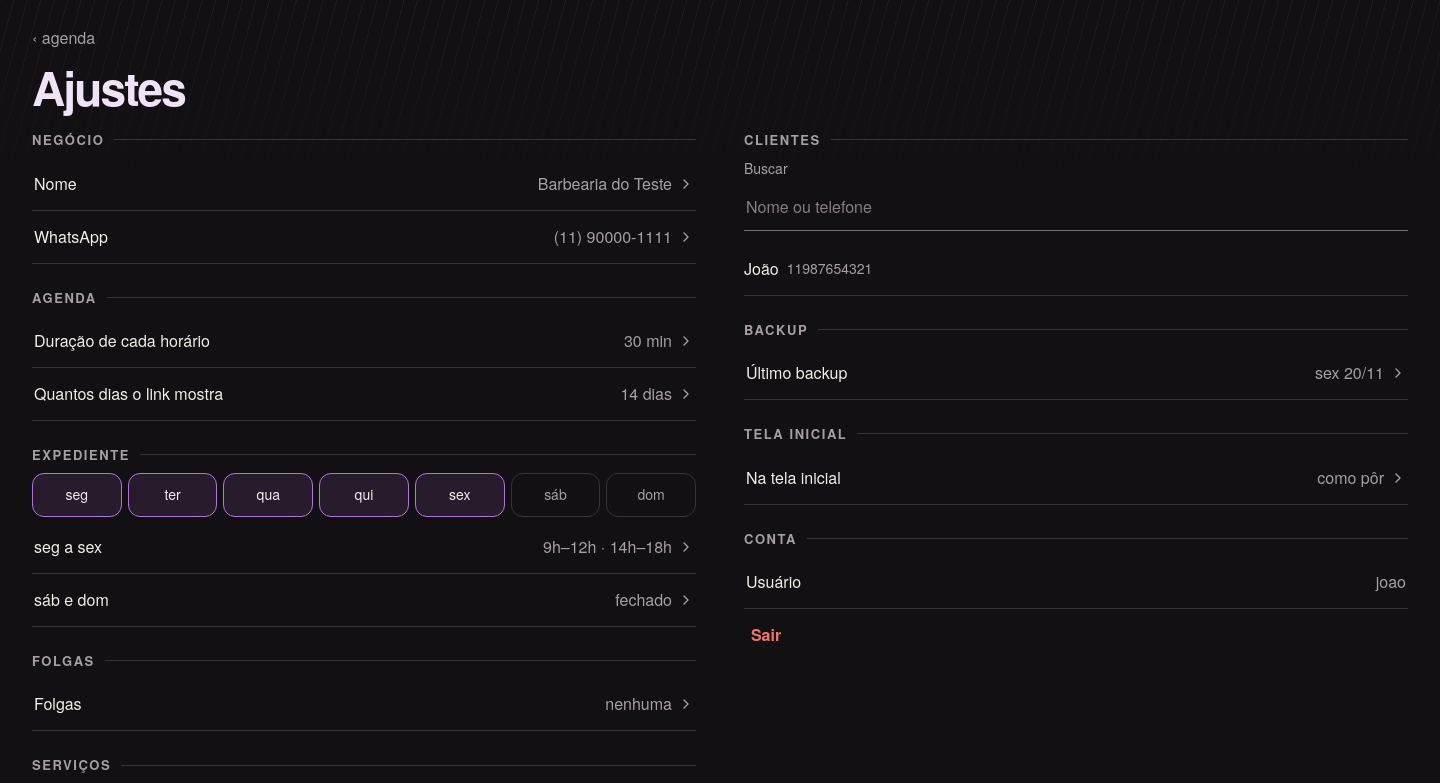
Scenario: Ajustes: cada painel salva só o que mostra › duração: grava exatamente esse campo, recarrega e fecha
The width and height of the screenshot is (1440, 783).
Click the button with aria-label "Duração de cada horário," at (122, 341), box [32, 315, 696, 367]
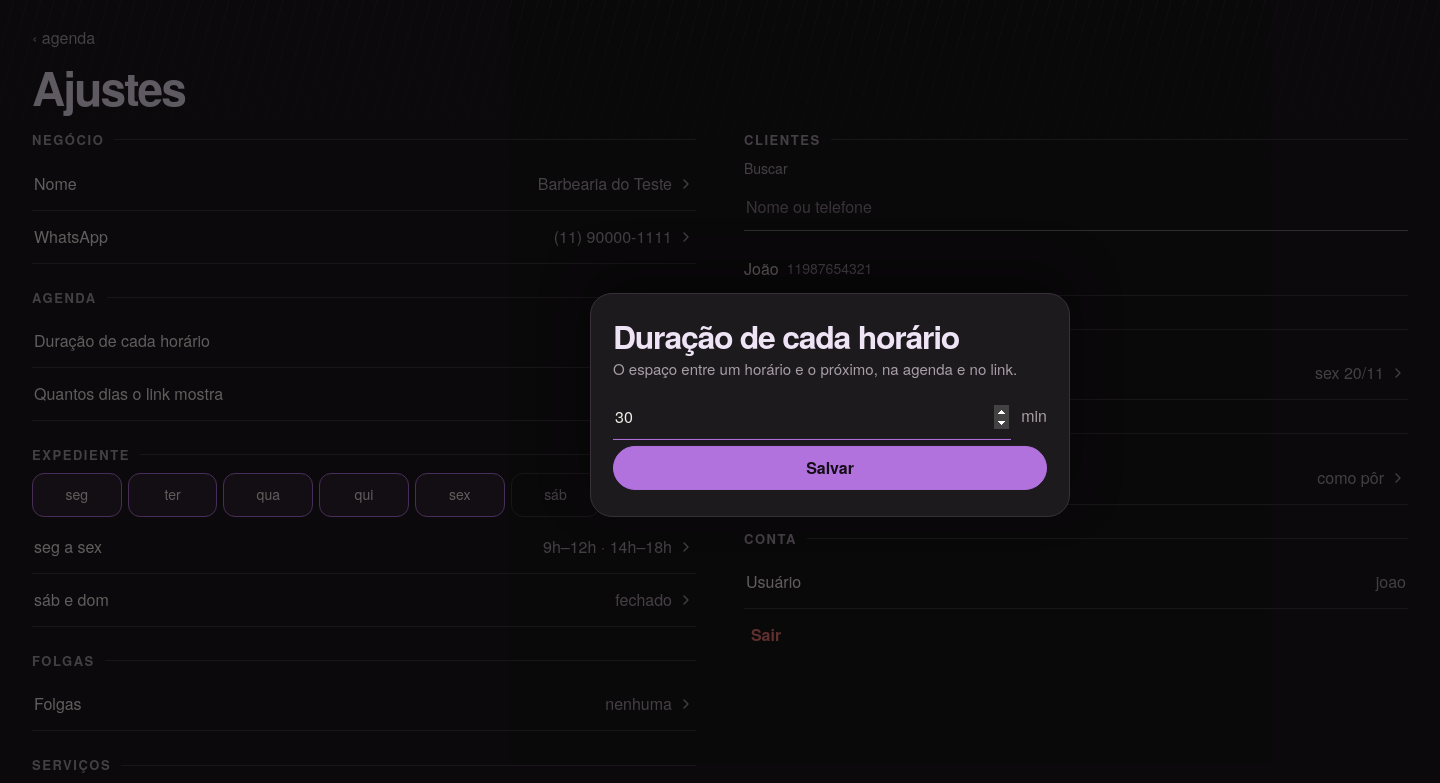
Replace the text in the number field named "Duração de cada horário (min)" with "40" at (812, 417), box [613, 394, 1011, 440]
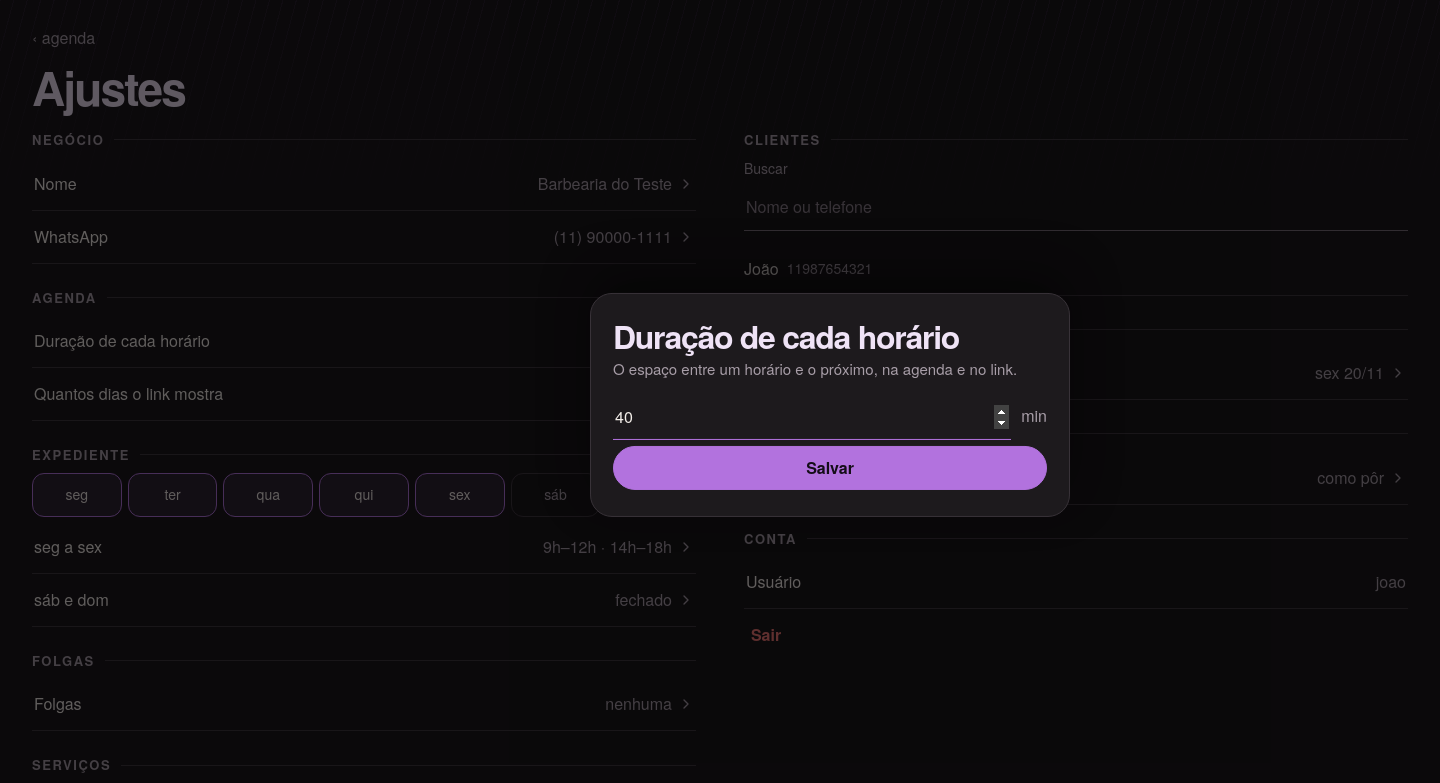
Click the button "Salvar" at (830, 468), box [613, 446, 1047, 490]
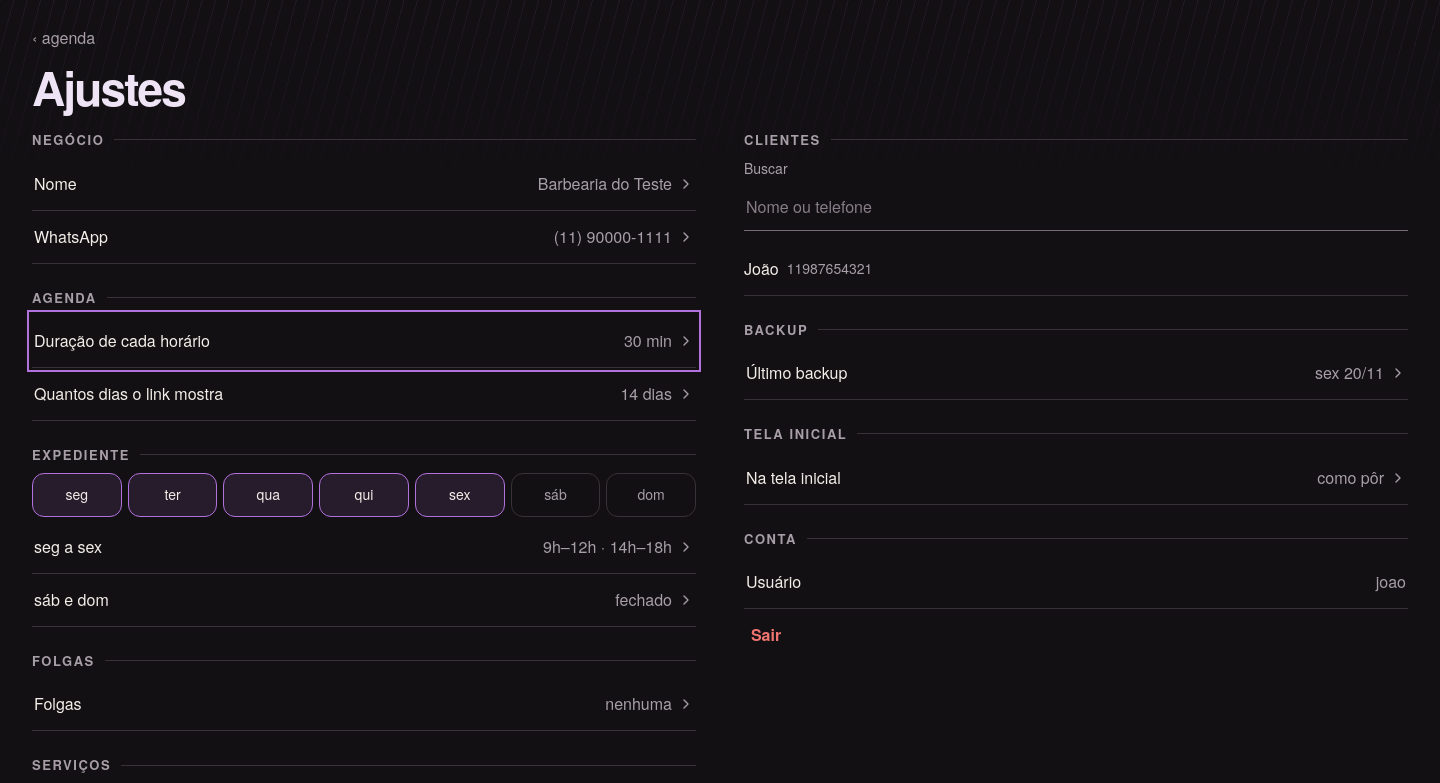
Result: the dialog is gone
